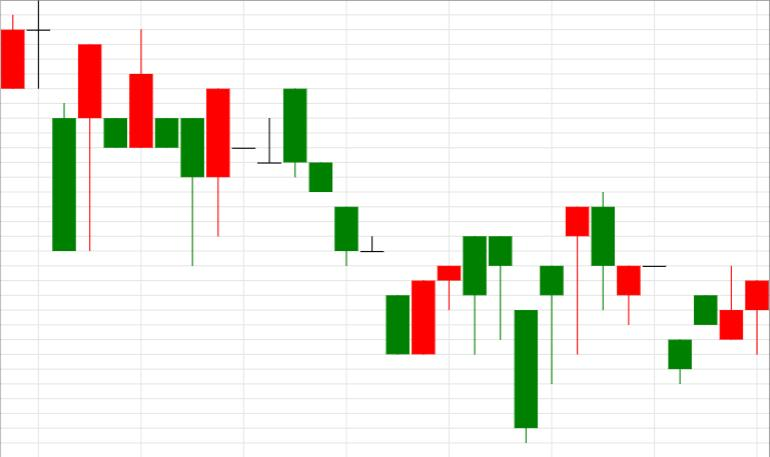bullish_engulfing_rise: (284, 89, 436, 354)
